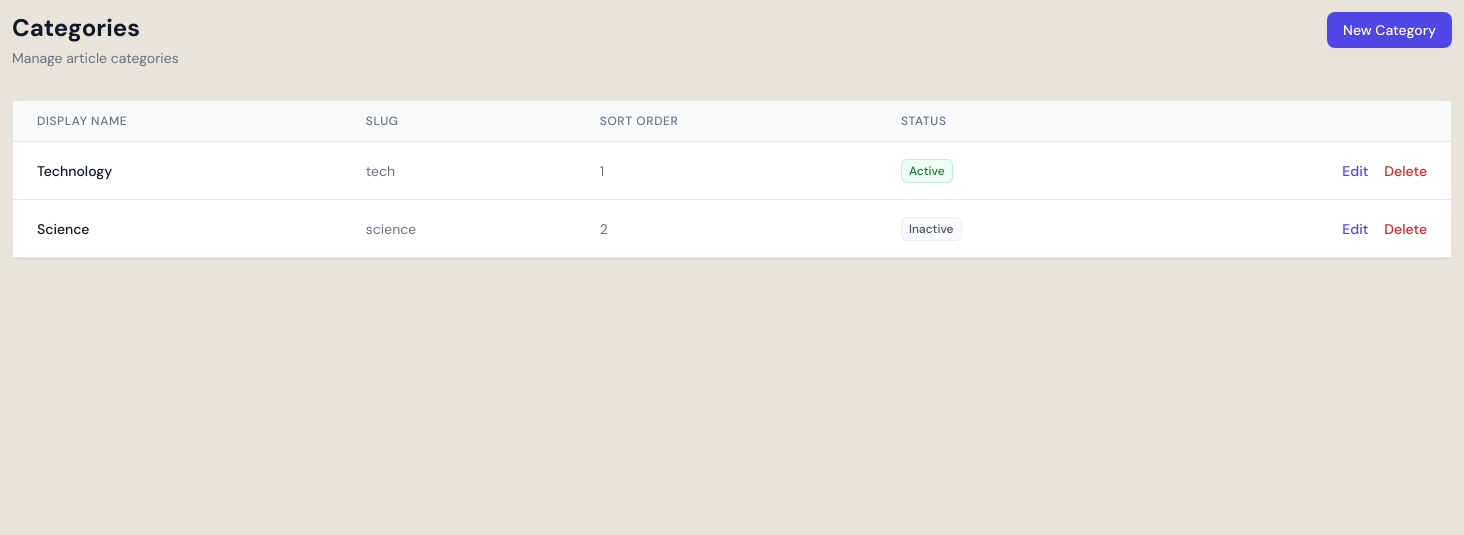
Scenario: CategoryPage › opens create form when New Category is clicked
Expected: the text "Technology" is shown, [13,142,342,200]
Click the button "New Category" at (1390, 30), box [1327,12,1452,48]
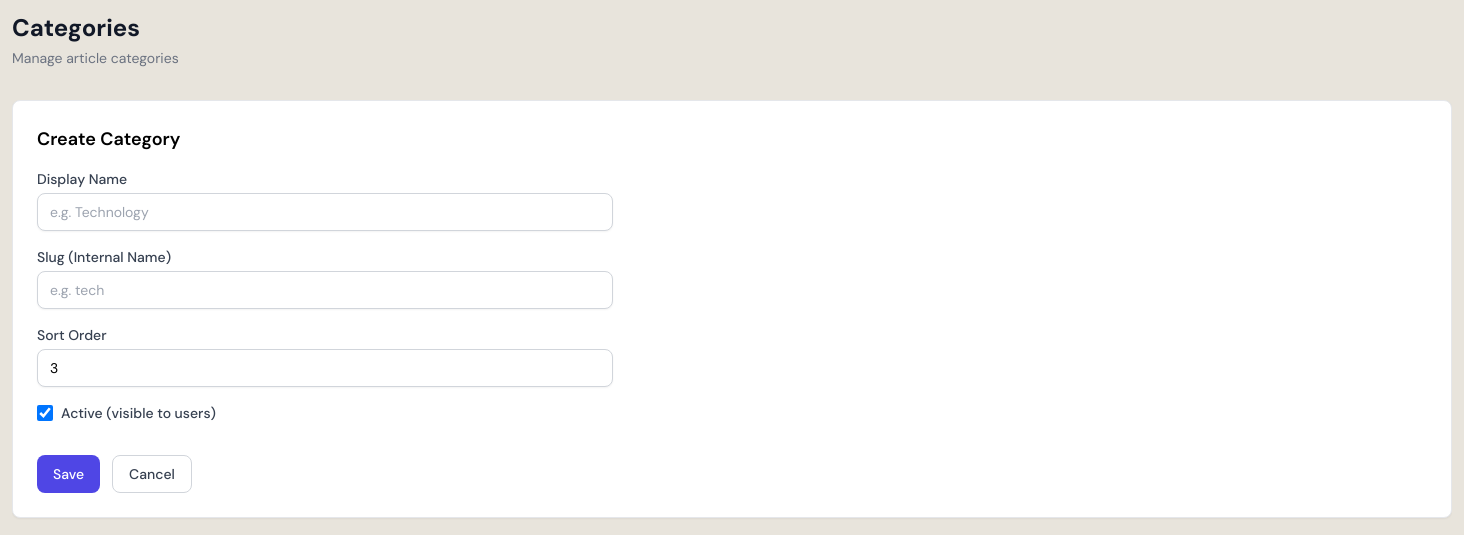
Expected: the heading "Create Category" is shown, [37,127,180,151]
